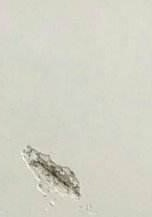Exposed reinforcement: (34, 159, 71, 188)
Spalling: (20, 144, 82, 201)
